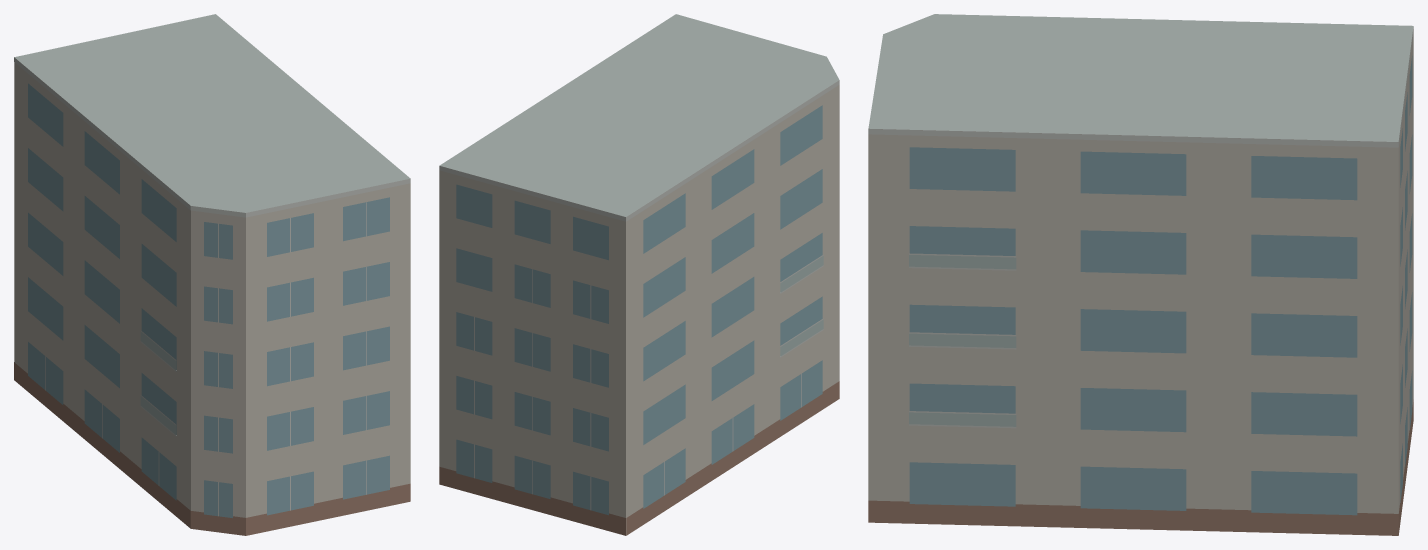
The model's file is survey-upis-32821804.glb.
3 renders of one model, left to right at view 1: azimuth 30°, elevation 25°; view 2: azimuth 150°, elevation 25°; view 3: azimuth 270°, elevation 25°, orthographic. The views are drawn at different scales.
Parts seen in each view (by area): view 1: survey-upis-32821804.tmp; view 2: survey-upis-32821804.tmp; view 3: survey-upis-32821804.tmp.
Part boxes in pixels (left/top/right/bottom): survey-upis-32821804.tmp: left=14, top=14, right=410, bottom=535; survey-upis-32821804.tmp: left=439, top=14, right=839, bottom=535; survey-upis-32821804.tmp: left=868, top=14, right=1413, bottom=535.
Bounding box in the file's own units: 11.87 × 17 × 21.34.
